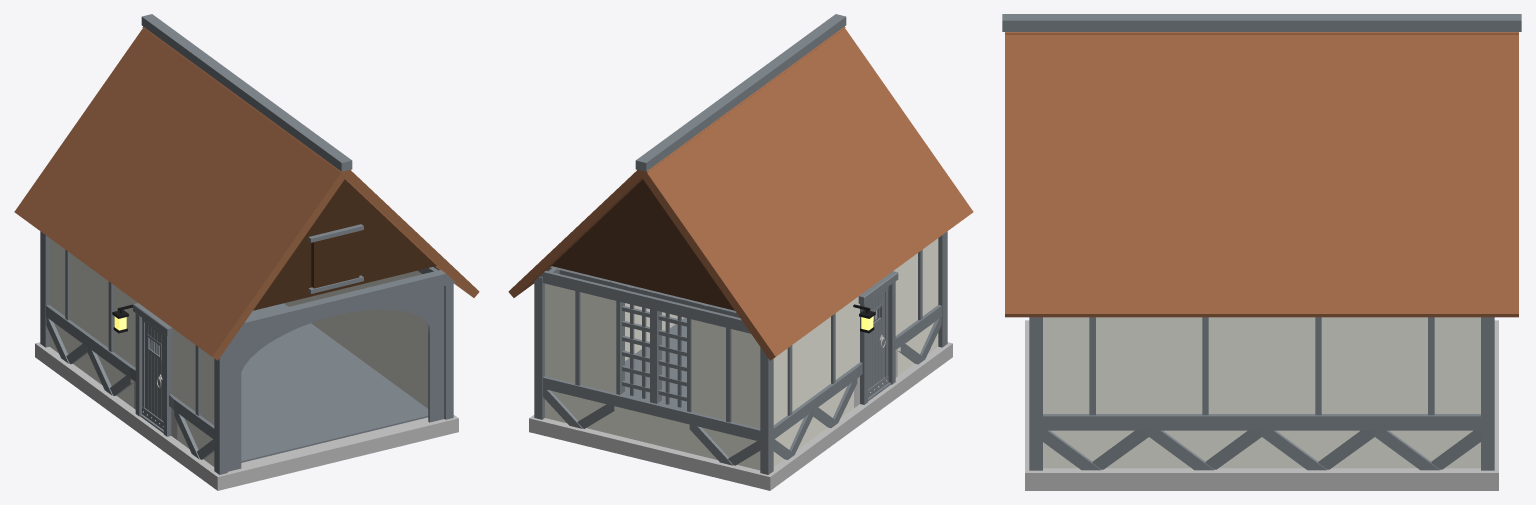
File: boathouse.gltf
3 renders of one model, left to right at view 1: azimuth 30°, elevation 25°; view 2: azimuth 150°, elevation 25°; view 3: azimuth 270°, elevation 25°, orthographic. The views are drawn at different scales.
Visible parts, largest first — view 1: RoofSlab.022, Floor.020, Footing.001, Gable.023, Wall_Arch.002, Wall_Plaster_Straight.006, Wall_Plaster_Straight.007, Wall_Plaster_Straight.011, Ridge.024, Beam.025, Wall_Plaster_Straight.012, Wall_Plaster_Straight.013 (+9 smaller); view 2: RoofSlab.022, Wall_Plaster_Straight.003, Wall_Plaster_Straight.005, Wall_Plaster_WoodGrid.004, Gable.023, Footing.001, Wall_Plaster_Straight.007, Wall_Plaster_Straight.011, Wall_Plaster_Straight.006, Ridge.024, RoofSlab.021, DoorFrame_Flat_WoodDark.009 (+6 smaller); view 3: RoofSlab.021, Wall_Plaster_Straight.013, Wall_Plaster_Straight.014, Wall_Plaster_Straight.012, Wall_Plaster_Straight.015, Footing.001, Ridge.024, Corner_Exterior_Wood.017, Corner_Exterior_Wood.019, RoofSlab.022.
Boxes of the visible parts, x1,y1,x2,y2 form: RoofSlab.022: (14,28,351,360); Floor.020: (153,303,428,462); Footing.001: (35,342,458,490); Gable.023: (253,179,436,310); Wall_Arch.002: (227,286,444,471); Wall_Plaster_Straight.006: (46,238,90,375); Wall_Plaster_Straight.007: (87,268,133,407); Wall_Plaster_Straight.011: (174,332,214,466); Ridge.024: (141,14,352,171); Beam.025: (234,270,455,337); Wall_Plaster_Straight.012: (396,266,438,408); Wall_Plaster_Straight.013: (352,276,395,384); RoofSlab.022: (636,28,973,360); Wall_Plaster_Straight.003: (539,266,622,435); Wall_Plaster_Straight.005: (689,302,760,470); Wall_Plaster_WoodGrid.004: (614,283,698,453); Gable.023: (551,179,734,310); Footing.001: (529,342,952,490); Wall_Plaster_Straight.007: (810,300,857,439); Wall_Plaster_Straight.011: (897,238,941,375); Wall_Plaster_Straight.006: (773,332,813,466); Ridge.024: (635,14,846,171); RoofSlab.021: (508,26,845,297); DoorFrame_Flat_WoodDark.009: (858,271,898,404); RoofSlab.021: (1005,34,1518,317); Wall_Plaster_Straight.013: (1149,317,1261,470); Wall_Plaster_Straight.014: (1262,317,1374,470); Wall_Plaster_Straight.012: (1043,317,1148,470); Wall_Plaster_Straight.015: (1375,317,1480,470); Footing.001: (1025,320,1498,490); Ridge.024: (1002,14,1521,31); Corner_Exterior_Wood.017: (1029,317,1042,470); Corner_Exterior_Wood.019: (1481,317,1494,470); RoofSlab.022: (1005,32,1518,34).
Size of the model in its own units: 7.1 by 7.76 by 9.2.
